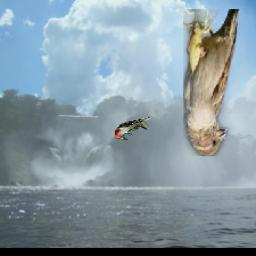Sparrow: (182, 9, 240, 156)
Woodpecker: (115, 118, 151, 141)
